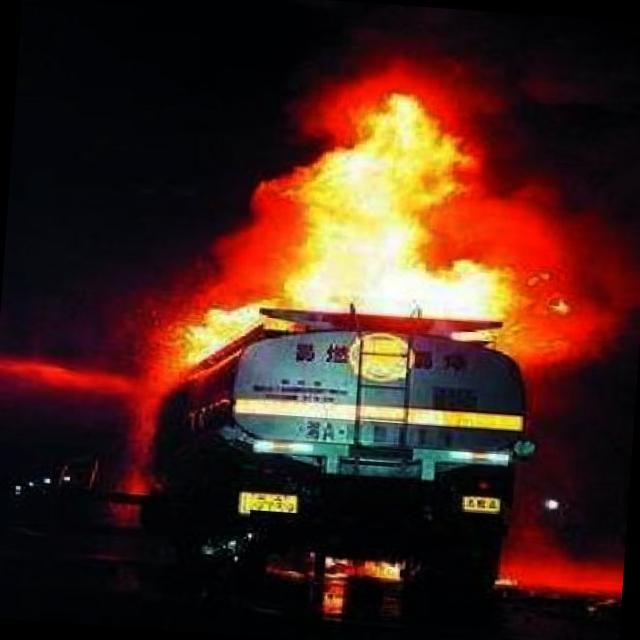Fire_Dangerous: (163, 71, 579, 402)
